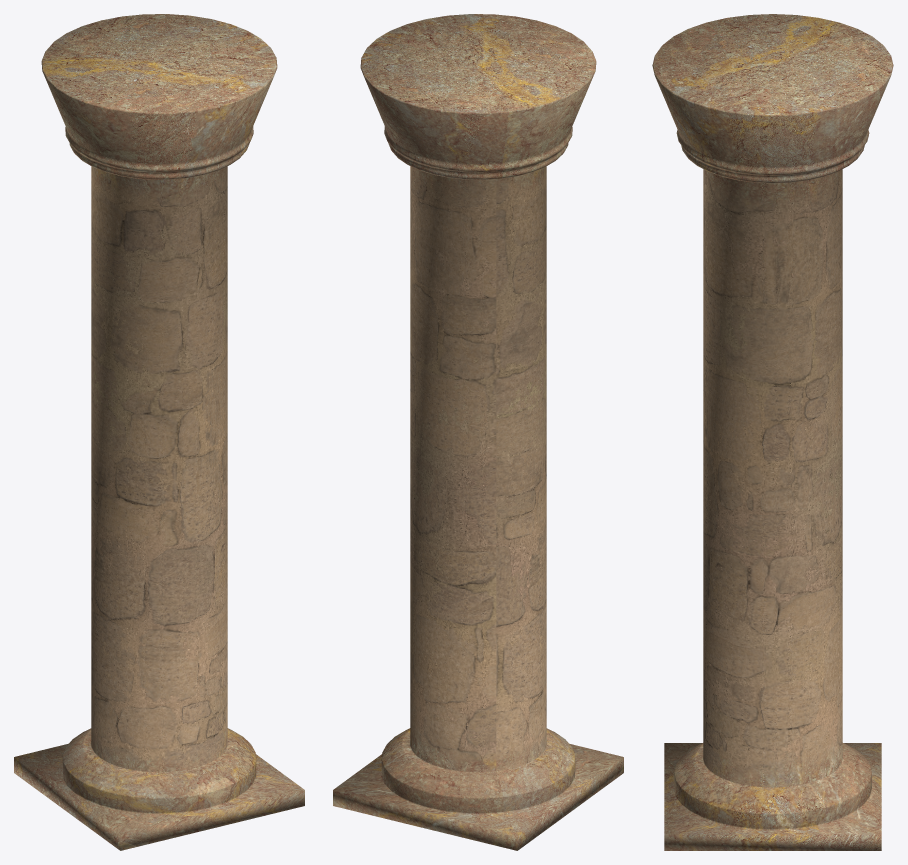
File: pillar.glb
3 views of the same model, side by side, from view 1: azimuth 30°, elevation 25°; view 2: azimuth 150°, elevation 25°; view 3: azimuth 270°, elevation 25° (orthographic).
Parts seen in each view (by area): view 1: Pillar; view 2: Pillar; view 3: Pillar.
Part boxes in pixels (box(x1,y1,x2,y2)): Pillar: box(14, 14, 304, 850); Pillar: box(333, 14, 623, 850); Pillar: box(652, 14, 893, 850).
Bounding box in the file's own units: 1.41 × 4.78 × 1.41.
2 materials, 2 textured.
